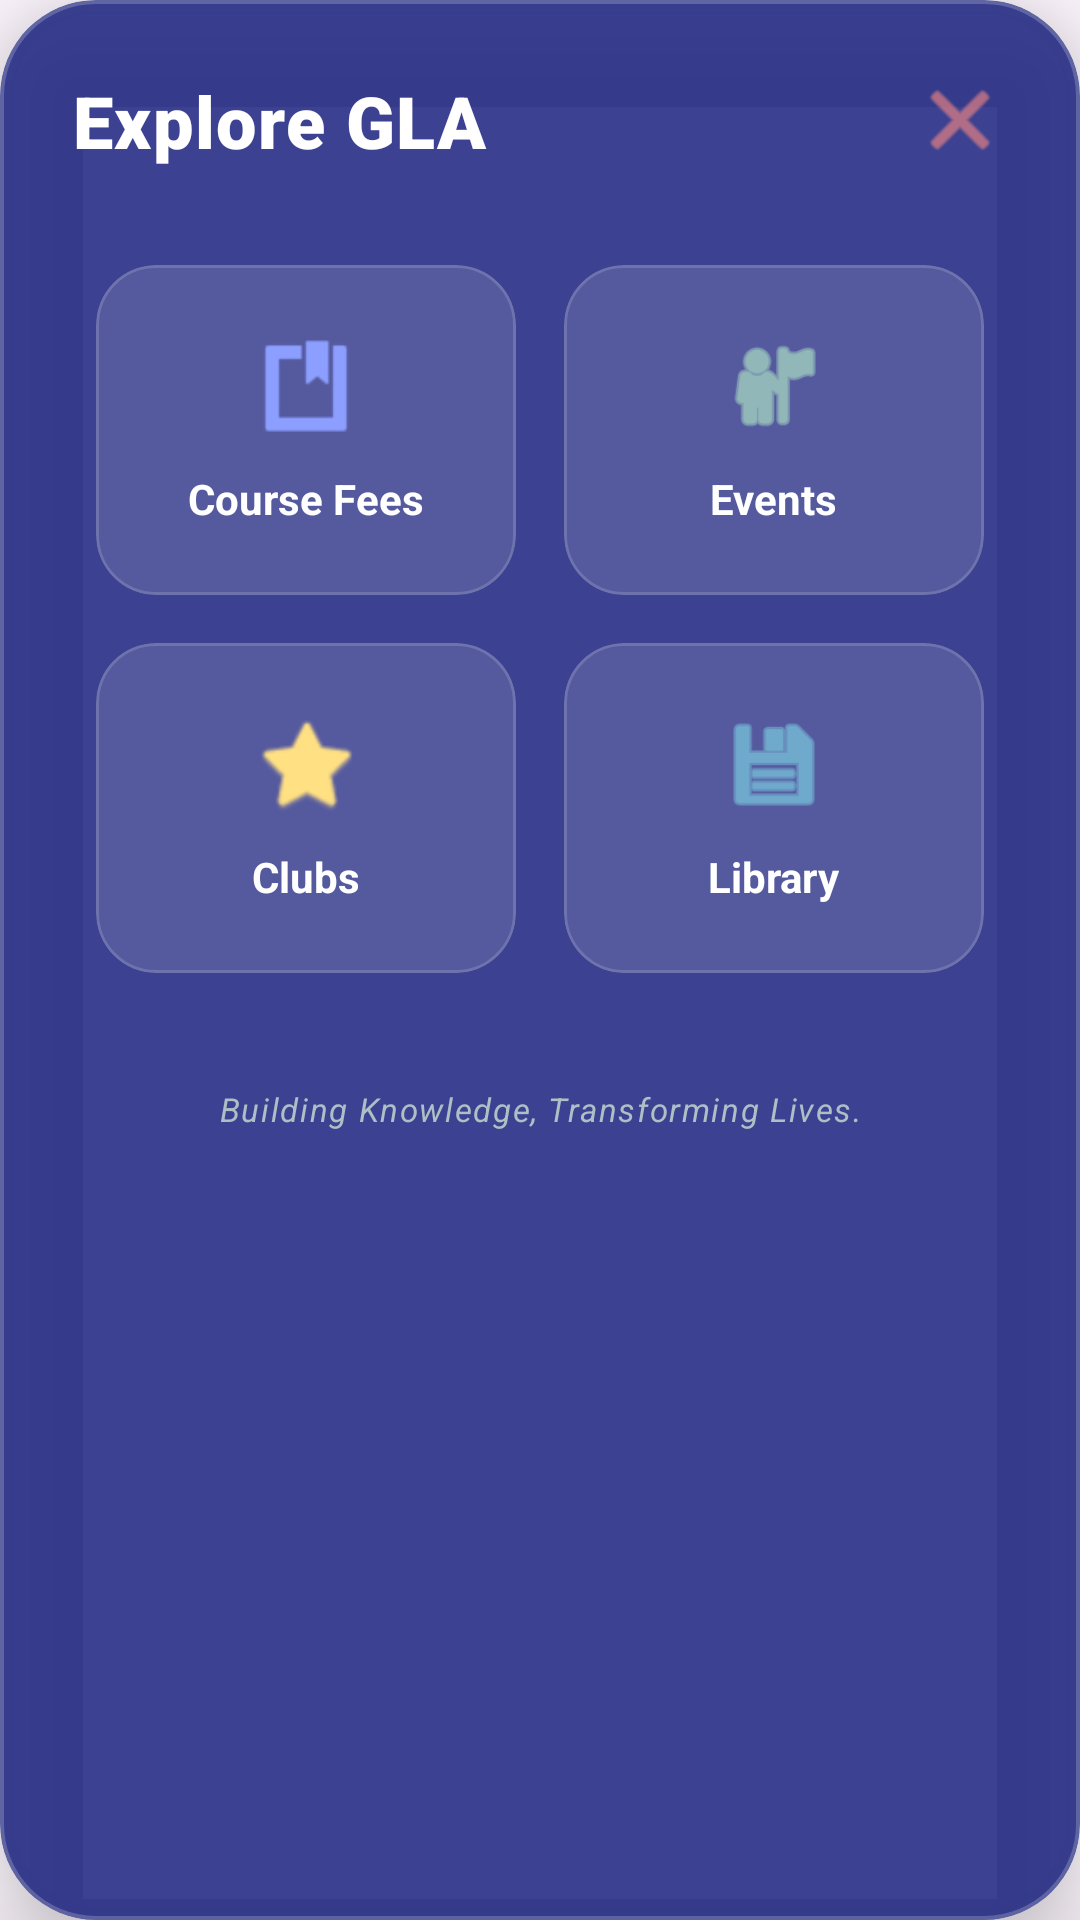

Where to tap for icons on this 1080px×1920px app screen, as (x=x, y=y):
close clear cancel: (x=960, y=120)
save: (x=774, y=765)
star on: (x=307, y=764)
